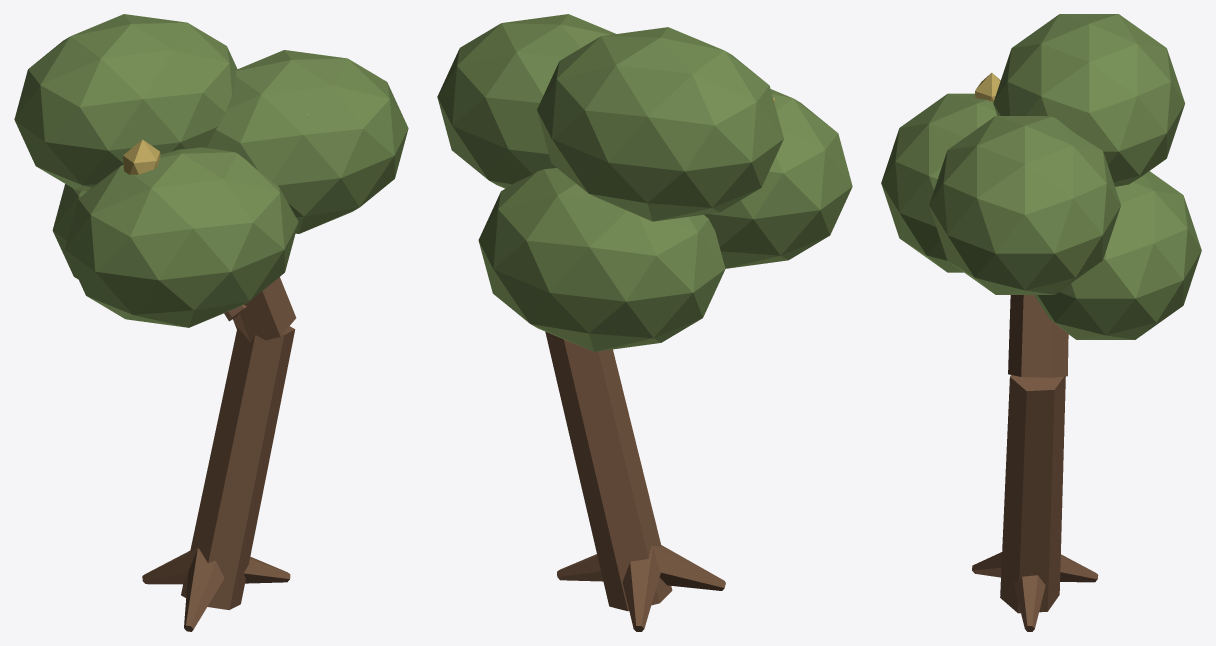
The model's file is map-boundaries-v5__farm_05.glb.
The picture shows the model from 3 angles, left to right: view 1: azimuth 30°, elevation 25°; view 2: azimuth 150°, elevation 25°; view 3: azimuth 270°, elevation 25°; orthographic projection. The views are drawn at different scales.
Visible parts, largest first — view 1: farm_05; view 2: farm_05; view 3: farm_05.
Boxes of the visible parts, left/top/right/bottom form: farm_05: left=14, top=14, right=408, bottom=631; farm_05: left=437, top=14, right=852, bottom=631; farm_05: left=881, top=14, right=1201, bottom=631.
Size of the model in its own units: 1.9 by 3.06 by 1.6.
